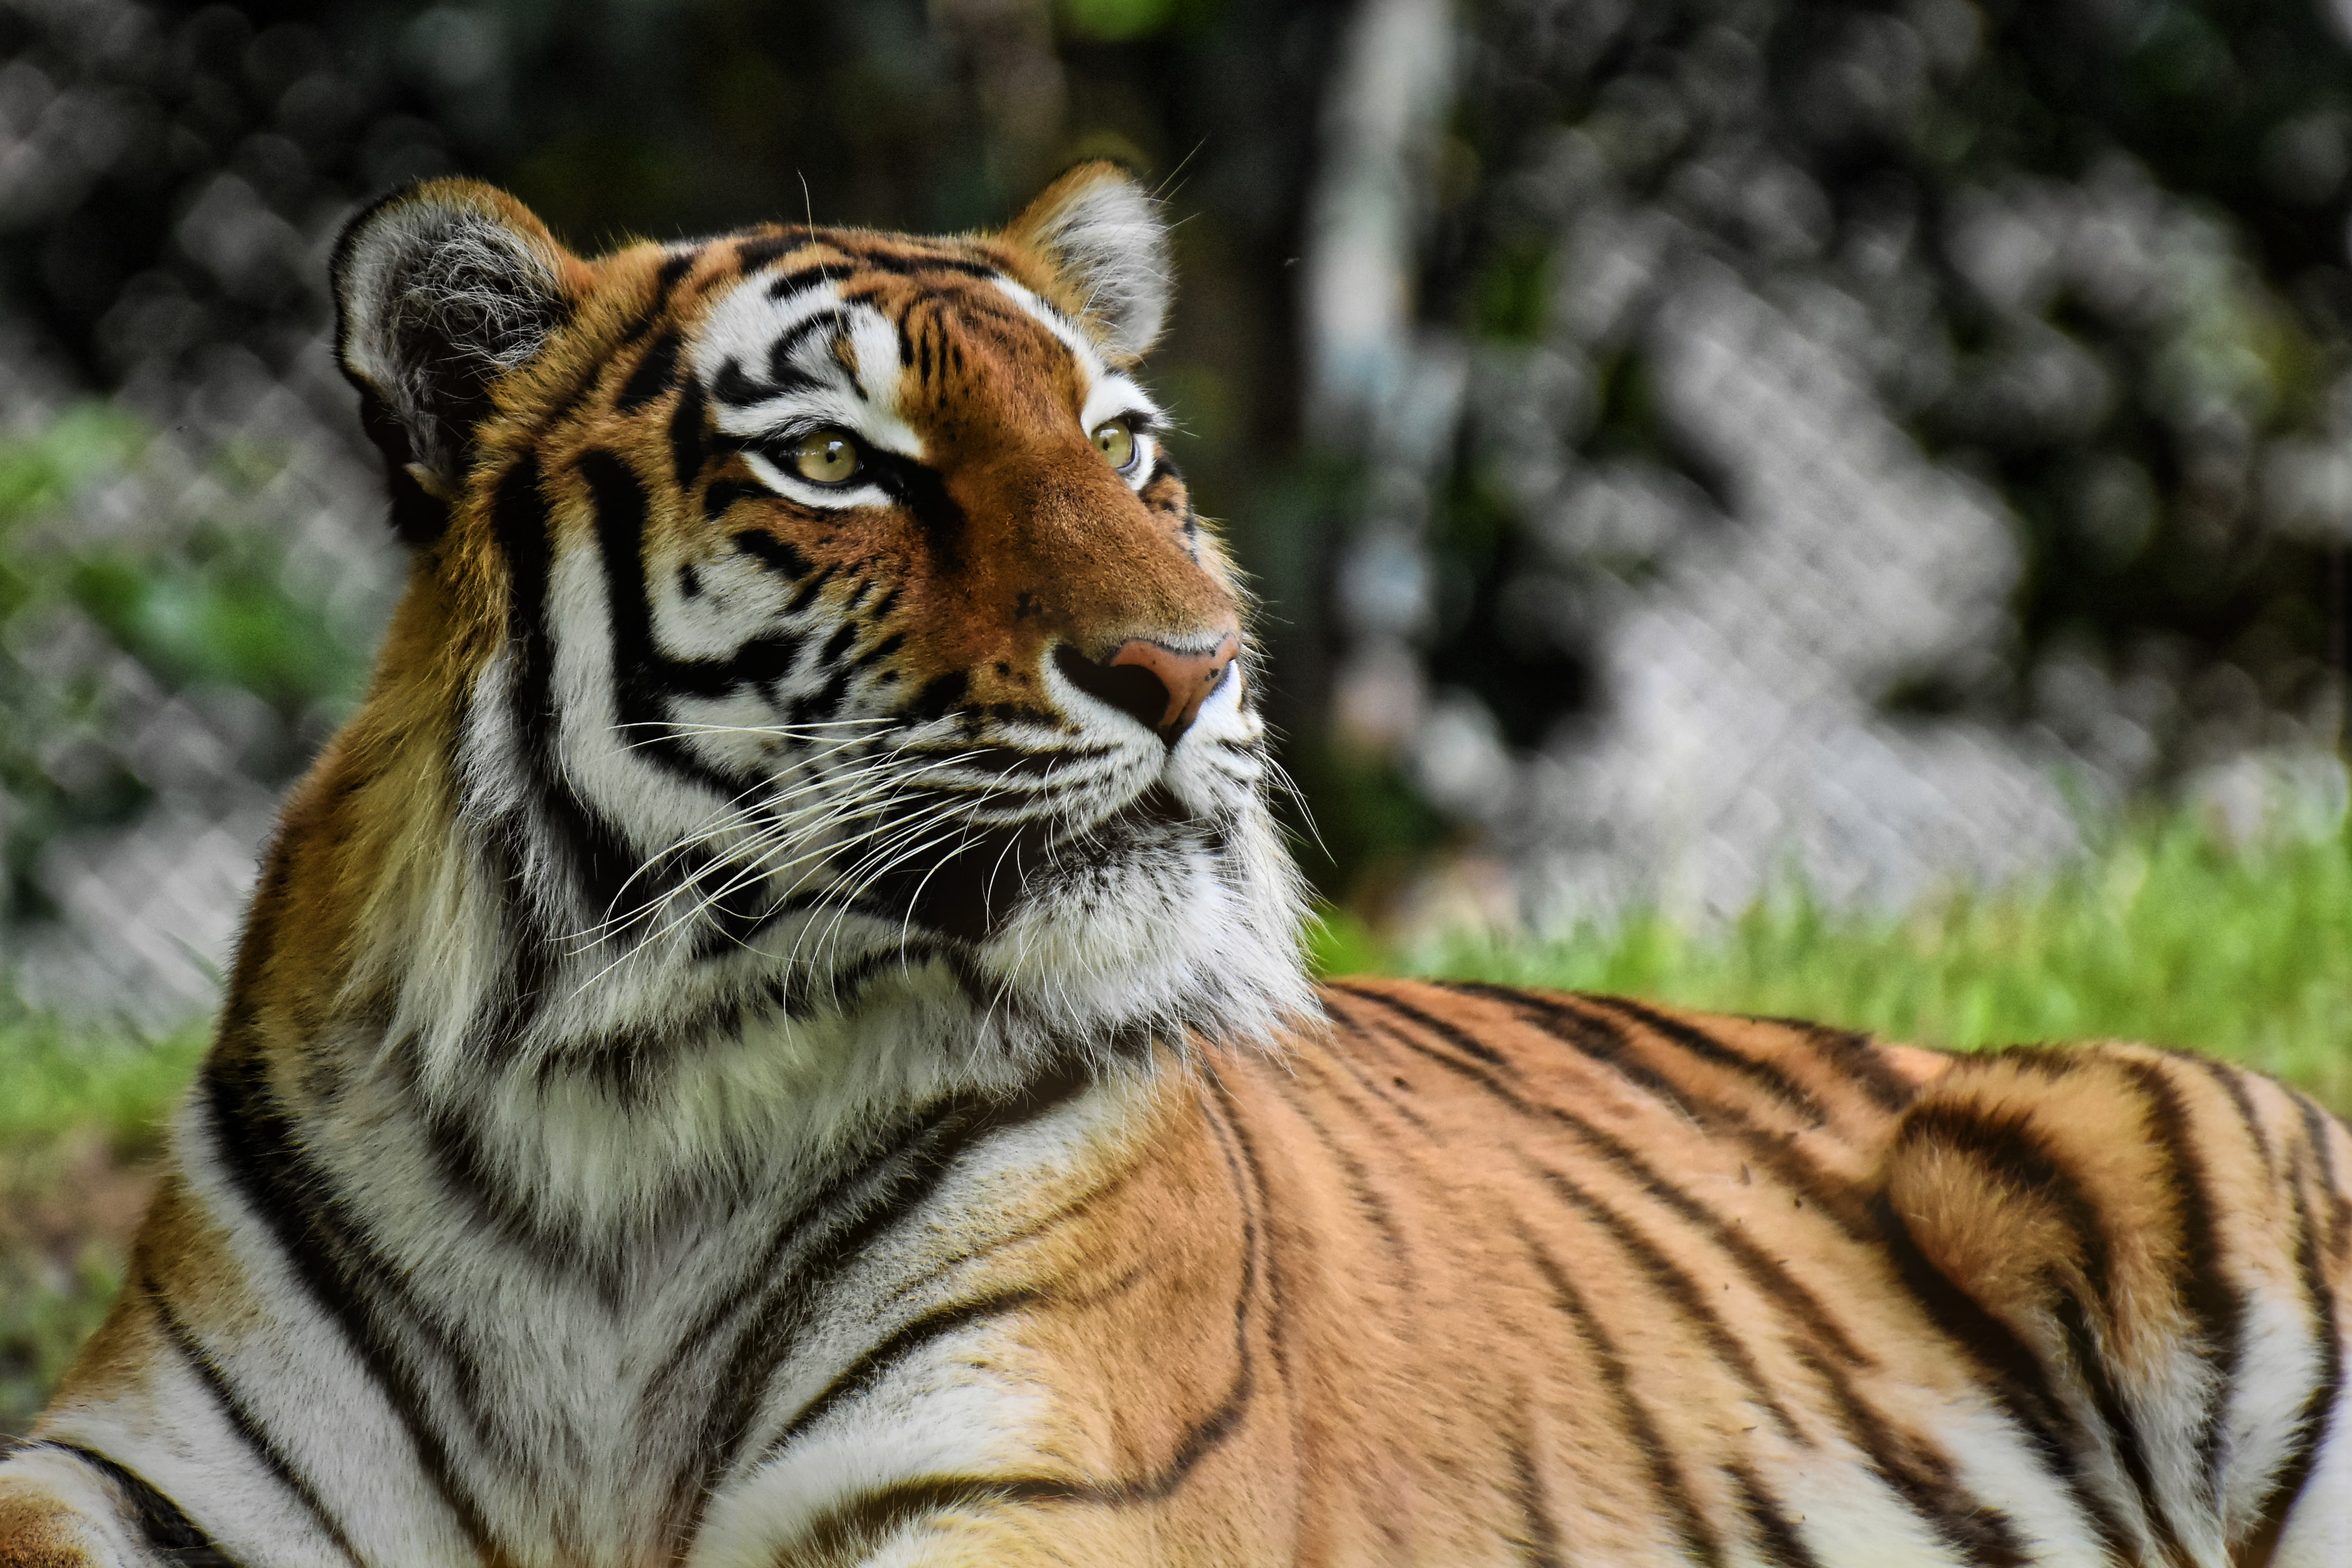tiger: (268, 171, 2284, 1540)
